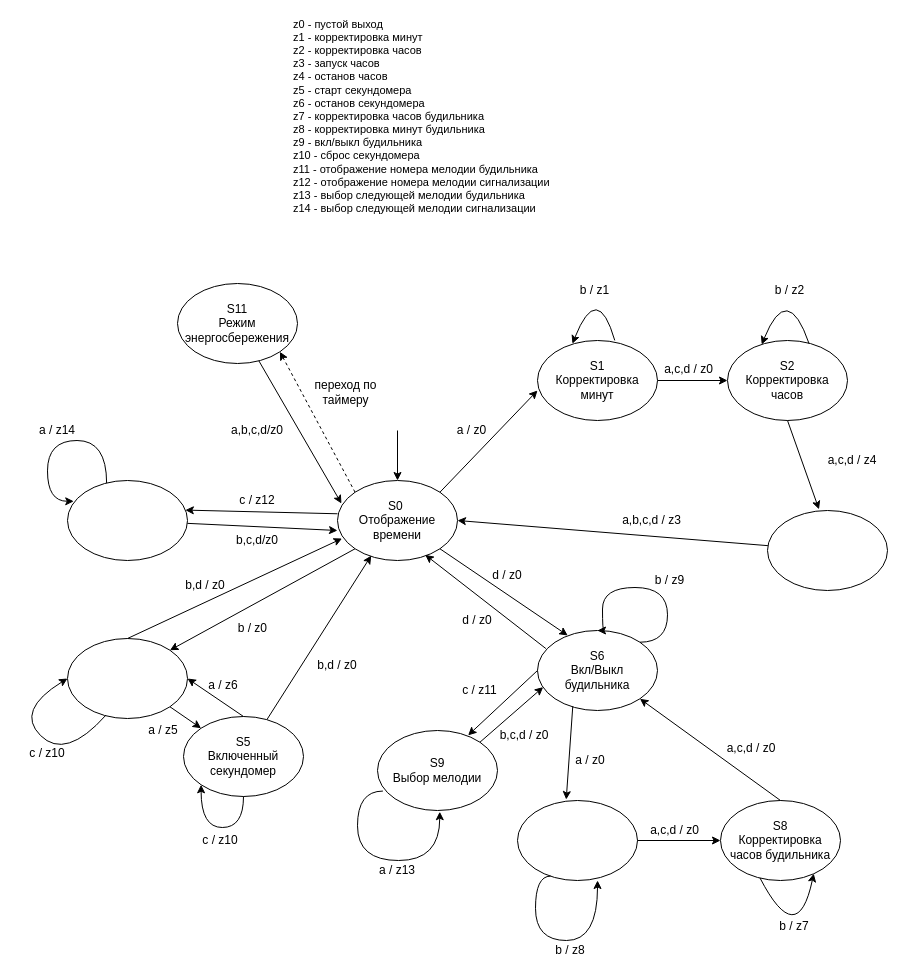
This 905x977 diagram has some shape labels left out. The shapes that lost their labels are listed below. From the top down, each one's centre as x and y in pixels, then its label:
At pixel 127 520: "S10 Выбор мелодии для сигнализации".
At pixel 827 550: "S3 Остановленные часы".
At pixel 127 678: "S4 Выключенный секундомер".
At pixel 577 840: "S7 Корректировка минут будильника".
